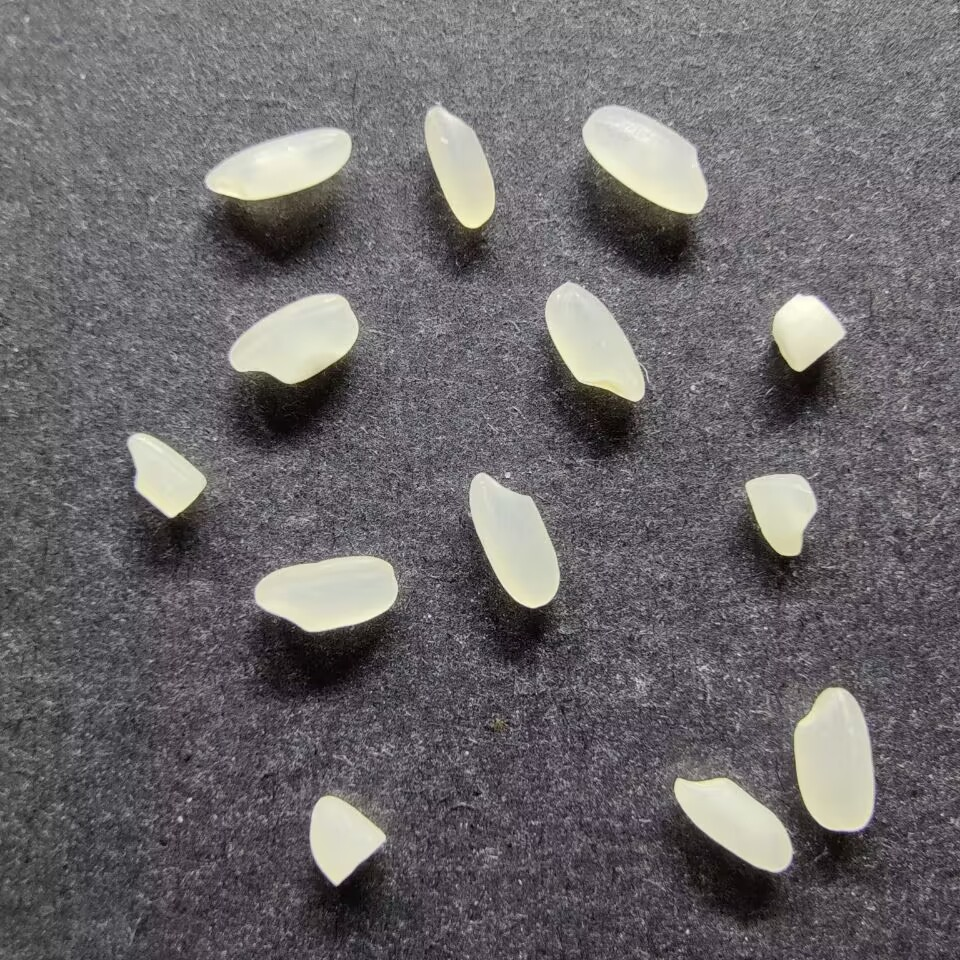broken: (308, 794, 386, 886), (126, 431, 207, 519), (743, 472, 818, 556), (770, 294, 846, 373)
rice: (581, 104, 709, 214), (543, 281, 646, 404), (468, 471, 560, 608), (792, 686, 876, 833), (227, 292, 359, 385), (672, 776, 794, 875), (253, 555, 398, 633), (204, 127, 351, 201), (423, 105, 496, 229)
